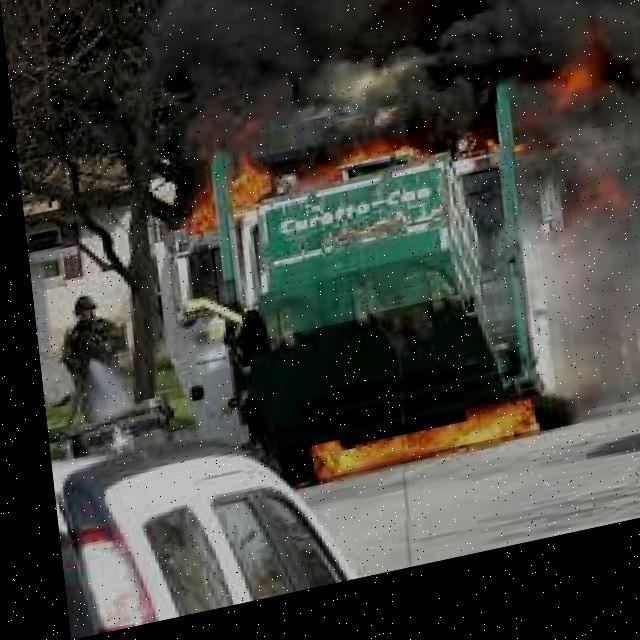Fire: (277, 388, 543, 508), (315, 98, 537, 228), (518, 33, 639, 270), (170, 148, 278, 258)
